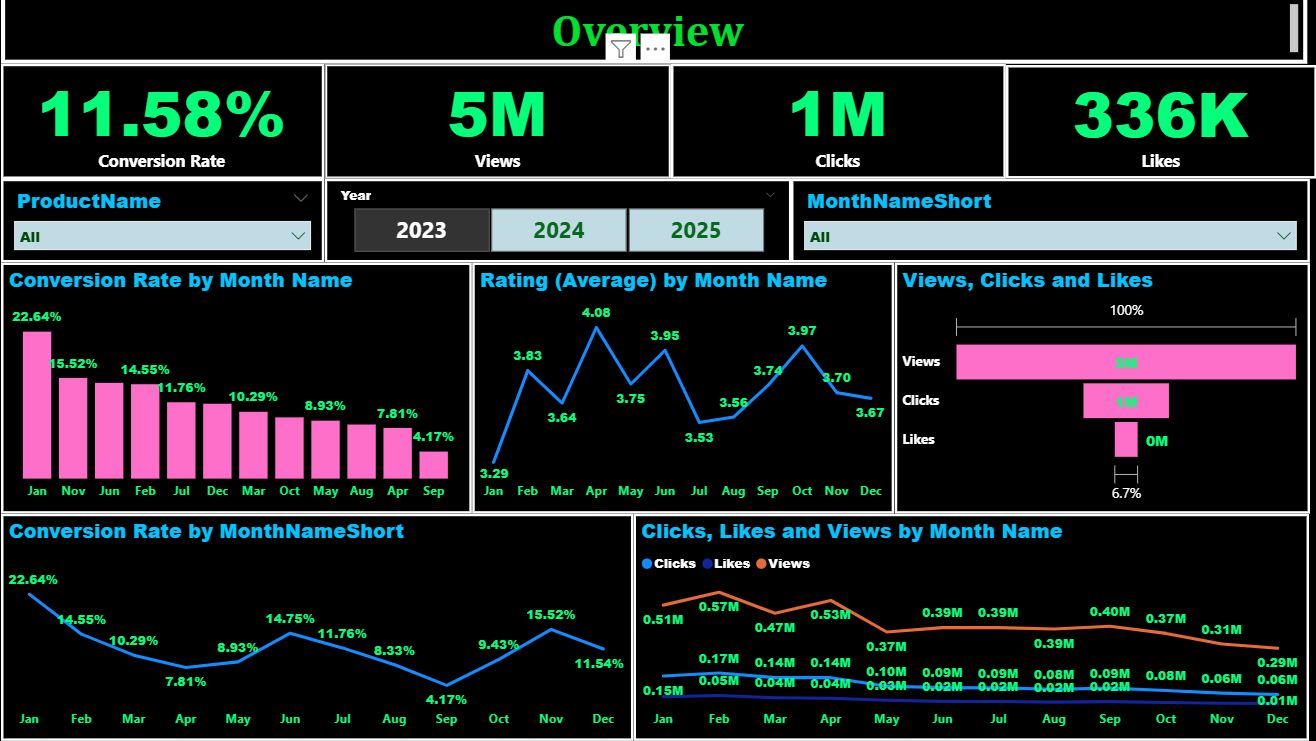

What the dashboard file says about the page in this screenshot:
{"tool":"powerbi","page":{"name":"Overview","canvas":[1280,720],"ordinal":0},"visuals":[{"type":"textbox","box":[10.1,0,1261,66.4],"z":0},{"type":"slicer","fields":{"Values":["dim_products.ProductName"]},"box":[10.1,177.5,311.6,80.8],"z":1000},{"type":"card","fields":{"Values":["Calculations.Conversion Rate"]},"box":[10.1,66.4,311.6,111.1],"z":2000},{"type":"card","fields":{"Values":["Calculations.Views"]},"box":[321.7,66.4,334.7,111.1],"z":3000},{"type":"card","fields":{"Values":["Calculations.Clicks"]},"box":[656.5,66.4,323.2,111.1],"z":4000},{"type":"card","fields":{"Values":["Calculations.Likes"]},"box":[979.6,67.8,300.1,109.6],"z":5000},{"type":"clusteredColumnChart","title":"Conversion Rate by Month Name","fields":{"Category":["Calendar.MonthNameShort"],"Y":["Calculations.Conversion Rate"]},"box":[10.1,258.3,454.5,242.4],"z":6000},{"type":"slicer","fields":{"Values":["Calendar.Year"]},"box":[321.7,177.5,450.1,80.8],"z":7000},{"type":"slicer","fields":{"Values":["Calendar.MonthNameShort"]},"box":[771.9,177.5,500.6,80.8],"z":8000},{"type":"lineChart","fields":{"Category":["Calendar.MonthNameShort"],"Y":["Calculations.Conversion Rate"]},"box":[10.1,500.6,610.3,219.3],"z":9000},{"type":"lineChart","title":"Clicks, Likes and Views by Month Name","fields":{"Y":["Calculations.Clicks","Calculations.Likes","Calculations.Views"],"Category":["Calendar.MonthNameShort"]},"box":[620.4,500.6,652.1,219.3],"z":10000},{"type":"lineChart","title":"Rating (Average) by Month Name","fields":{"Category":["Calendar.MonthNameShort"],"Y":["Calculations.Rating (Average)"]},"box":[464.6,258.3,406.9,242.4],"z":11000},{"type":"funnel","fields":{"Y":["Calculations.Views","Calculations.Clicks","Calculations.Likes"]},"box":[872,258,401,242],"z":12000}]}

Visuals, with their boxes in screenshot pixels (x1, y1, x2, y2), scaled from the page's 1280x720 canvas onto the 1316x741 screenshot:
textbox: 10, 0, 1307, 68
slicer - dim_products.ProductName: 10, 183, 331, 266
card - Calculations.Conversion Rate: 10, 68, 331, 183
card - Calculations.Views: 331, 68, 675, 183
card - Calculations.Clicks: 675, 68, 1007, 183
card - Calculations.Likes: 1007, 70, 1315, 183
"Conversion Rate by Month Name" clusteredColumnChart: 10, 266, 478, 515
slicer - Calendar.Year: 331, 183, 794, 266
slicer - Calendar.MonthNameShort: 794, 183, 1308, 266
lineChart - Calendar.MonthNameShort x Calculations.Conversion Rate: 10, 515, 638, 740
"Clicks, Likes and Views by Month Name" lineChart: 638, 515, 1308, 740
"Rating (Average) by Month Name" lineChart: 478, 266, 896, 515
funnel - Calculations.Views x Calculations.Clicks: 897, 266, 1309, 515
